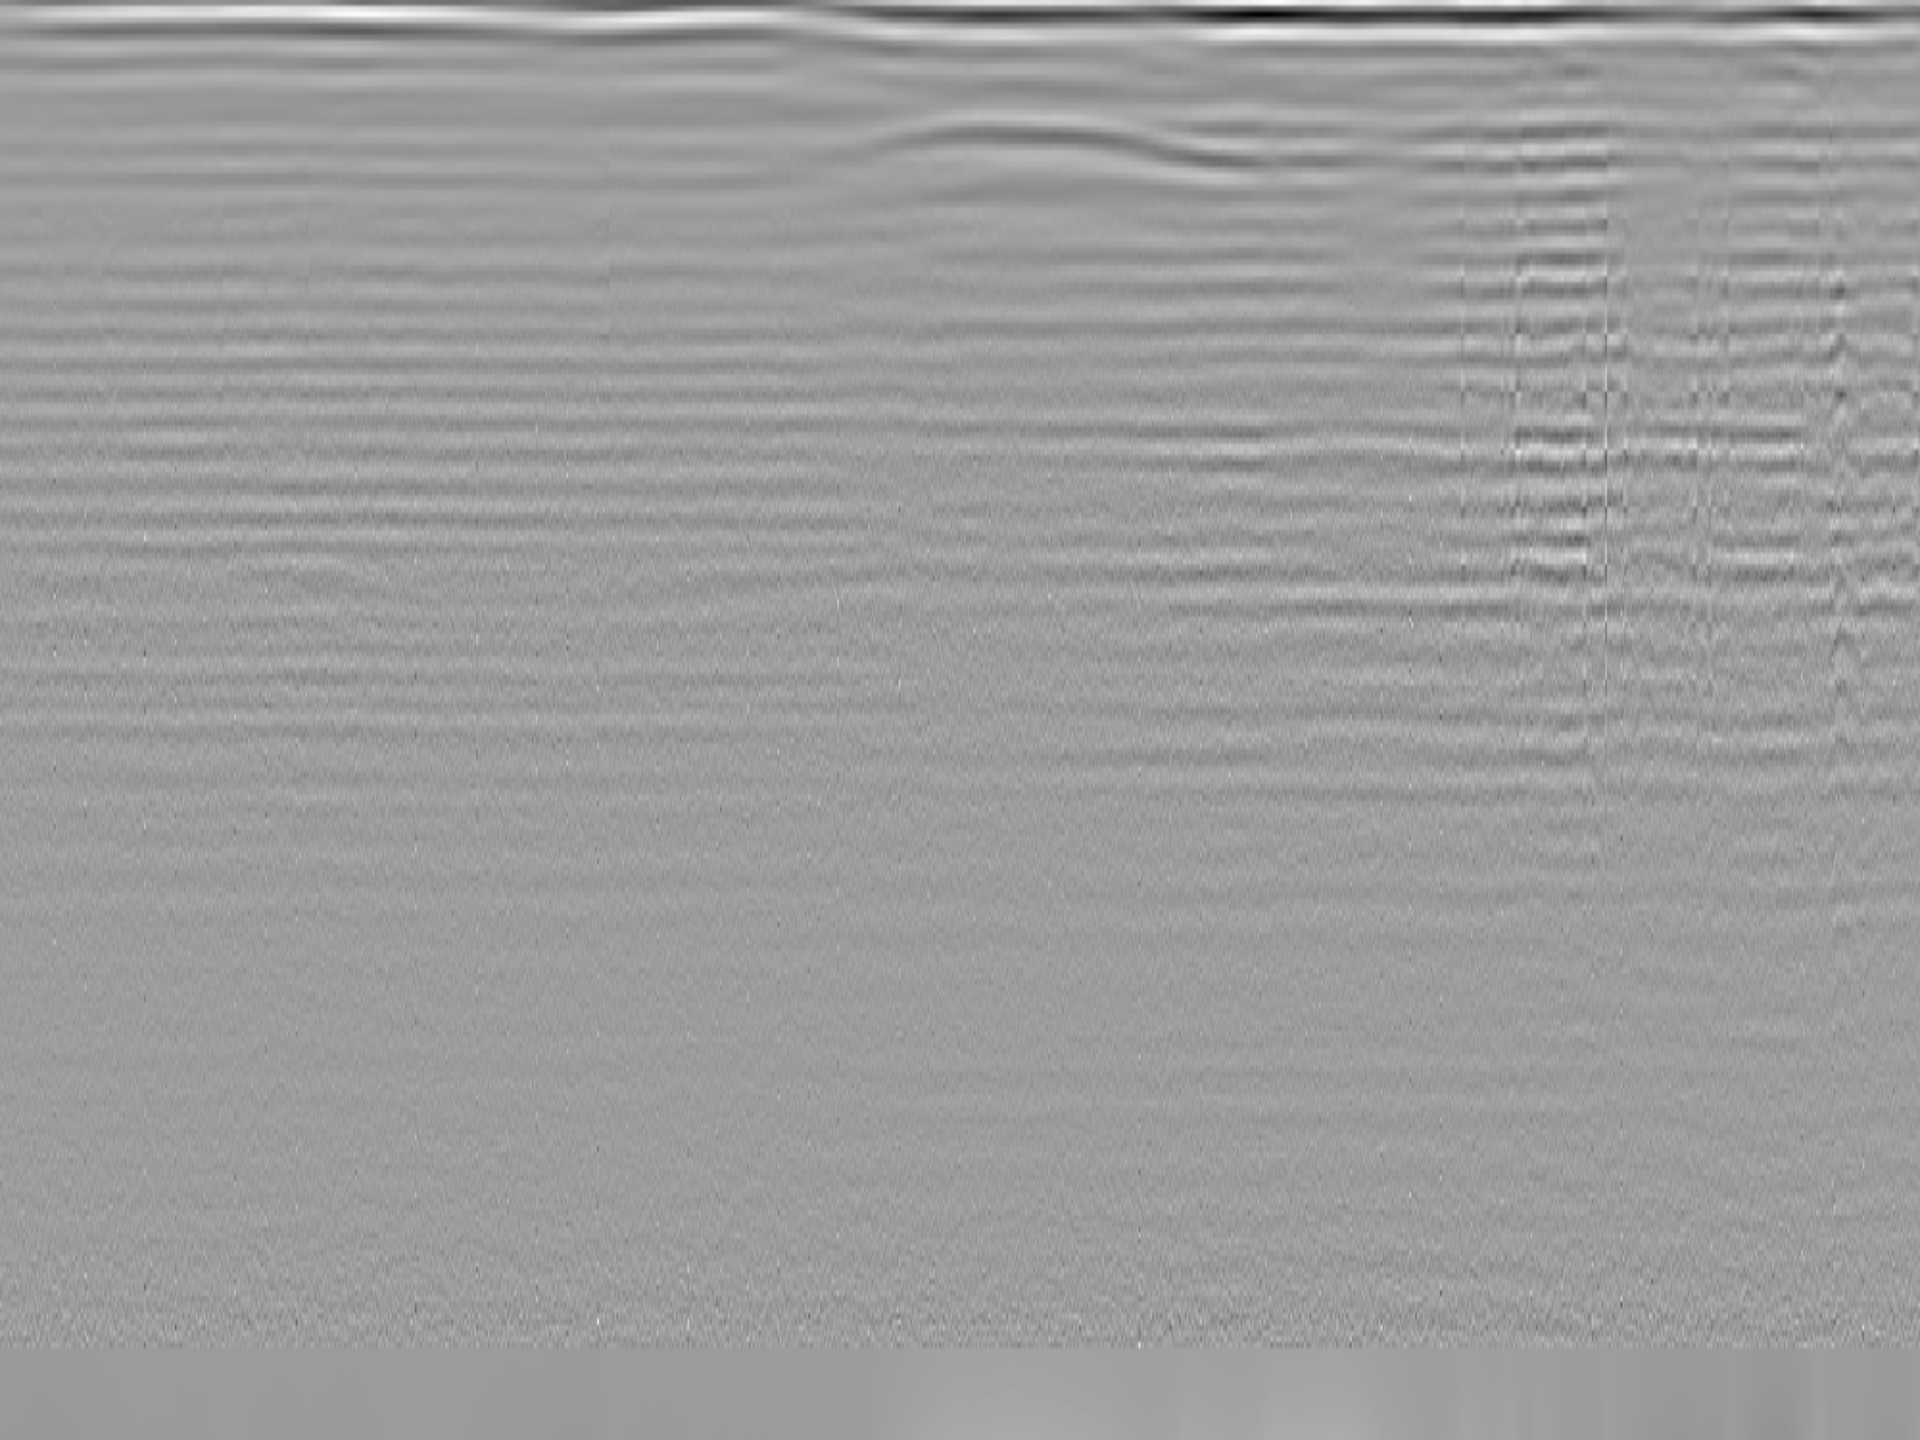Tunnel: (813, 112, 1296, 175)
